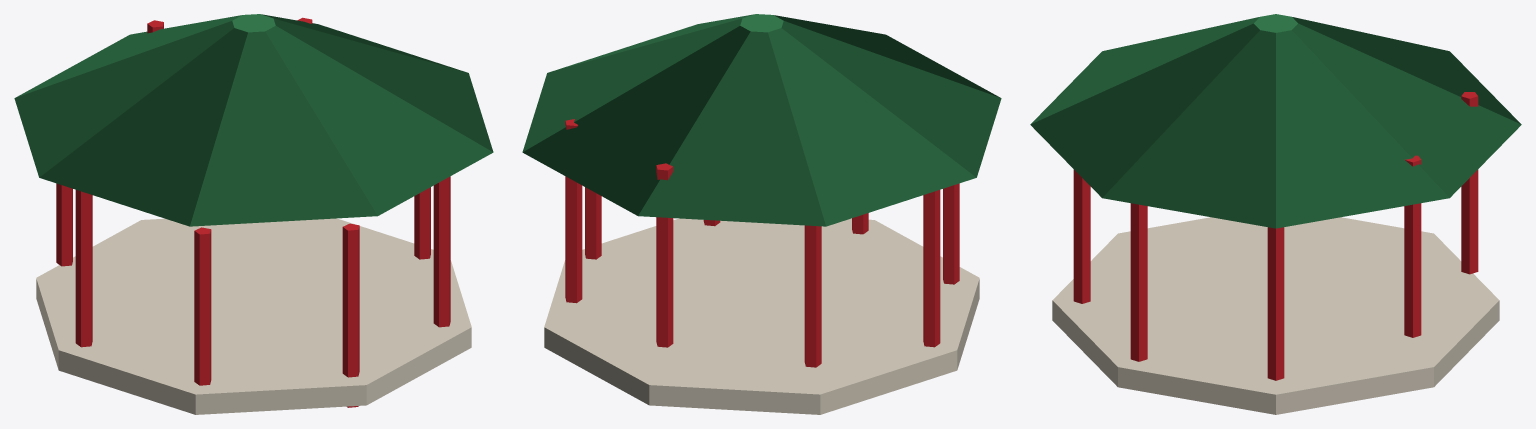
The model's file is obelisk_gazebo.glb.
3 views of the same model, side by side, from view 1: azimuth 30°, elevation 25°; view 2: azimuth 150°, elevation 25°; view 3: azimuth 270°, elevation 25° (orthographic).
Parts seen in each view (by area): view 1: obelisk_gazebo_lod0; view 2: obelisk_gazebo_lod0; view 3: obelisk_gazebo_lod0.
Boxes of the visible parts, x1,y1,x2,y2 form: obelisk_gazebo_lod0: (14, 14, 493, 414); obelisk_gazebo_lod0: (522, 14, 1001, 414); obelisk_gazebo_lod0: (1030, 14, 1521, 414).
Size of what is drawn, in the model's own units: 6.6 by 4.55 by 6.6.
